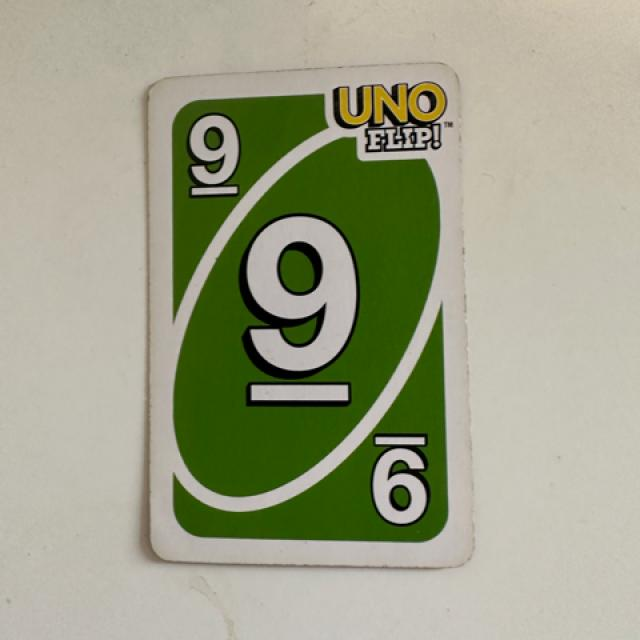lgreen-9: (157, 92, 265, 230)
